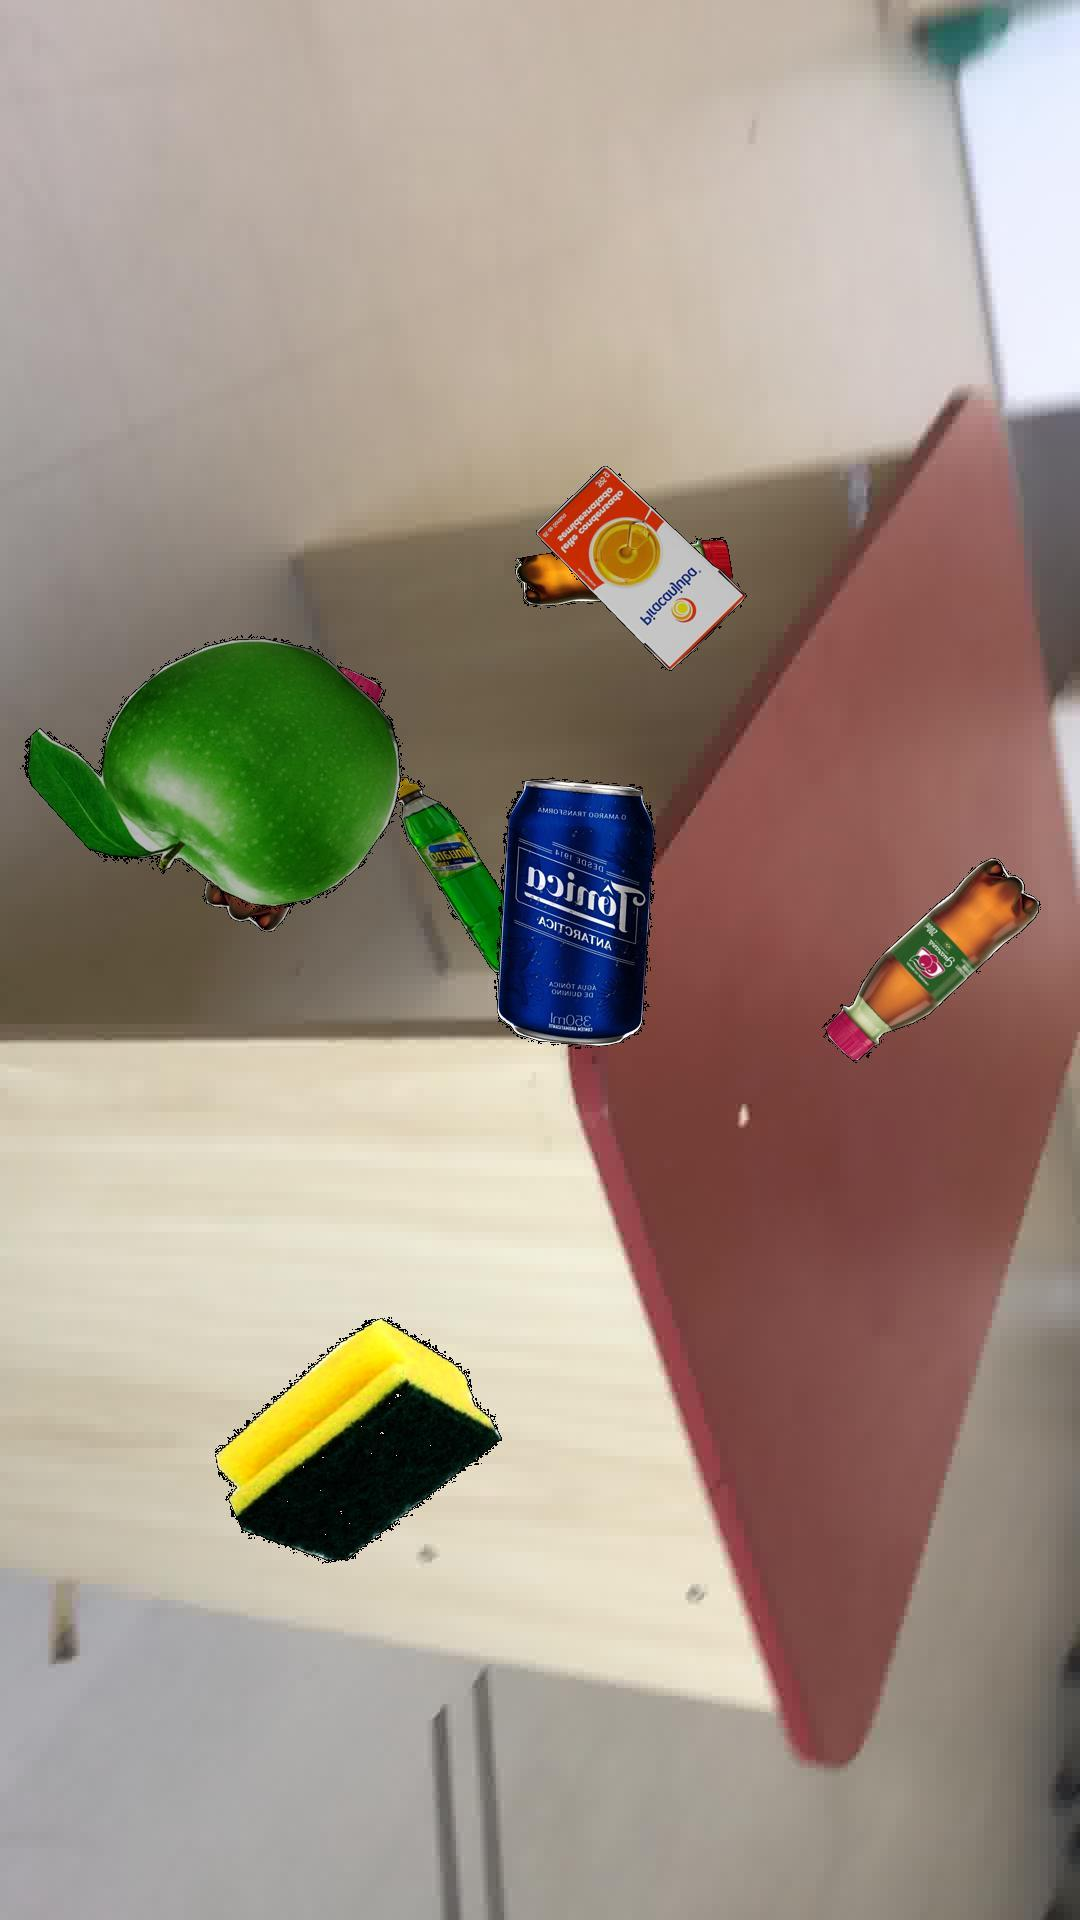cleaner: (396, 775, 501, 972)
green apple: (22, 636, 401, 906)
guarana: (203, 665, 384, 931), (822, 857, 1039, 1060), (513, 535, 732, 605)
sponge: (214, 1316, 501, 1561)
tonic: (493, 778, 654, 1046)
